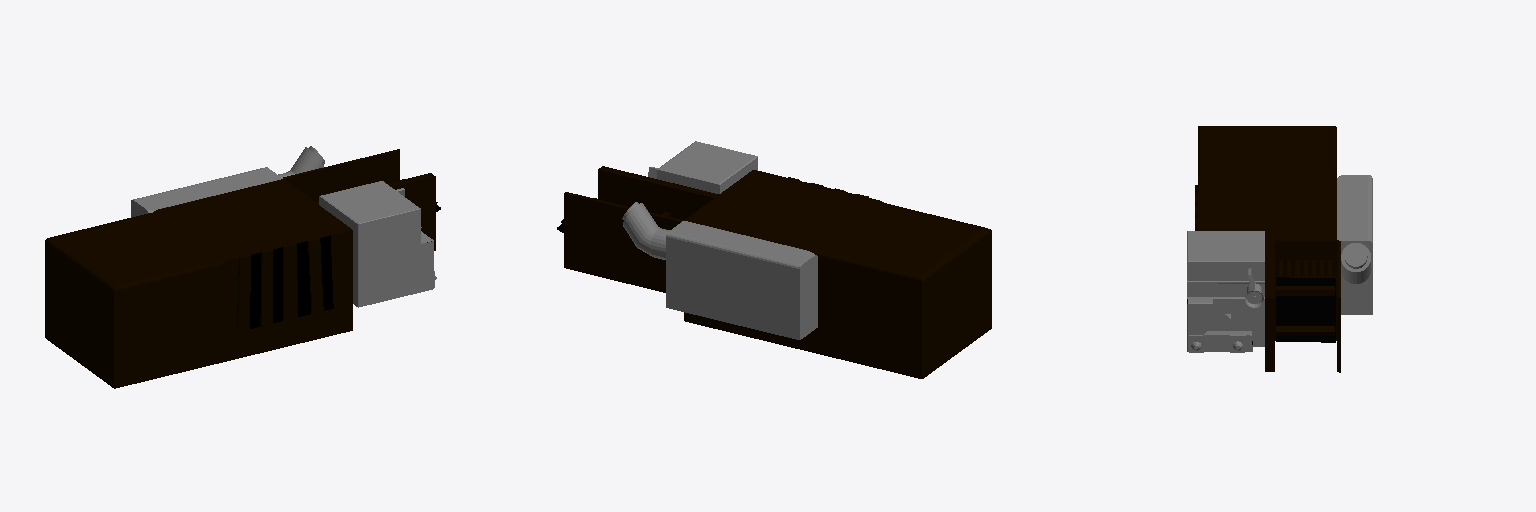
File: drobene.obj
The picture shows the model from 3 angles: view 1: azimuth 30°, elevation 25°; view 2: azimuth 150°, elevation 25°; view 3: azimuth 270°, elevation 25°; orthographic projection.
Visible parts, largest first — view 1: Cube_Cube.008, Cube_Cube.001, Cube_Cube.003, Cube_Cube.002, Circle.014_Circle.035; view 2: Cube_Cube.008, Cube_Cube.002, Cube_Cube.001, Circle.014_Circle.035; view 3: Cube_Cube.008, Cube_Cube.001, Cube_Cube.002, Cylinder_Cylinder.008, Circle.014_Circle.035, Cube.001_Cube.007, Cube.002_Cube.006.
Boxes of the visible parts, box(x1,y1,x2,y2) form: Cube_Cube.008: box(45, 149, 435, 388); Cube_Cube.001: box(319, 181, 434, 307); Cube_Cube.003: box(250, 235, 333, 328); Cube_Cube.002: box(131, 167, 282, 217); Circle.014_Circle.035: box(278, 146, 324, 177); Cube_Cube.008: box(564, 166, 991, 378); Cube_Cube.002: box(666, 221, 817, 339); Cube_Cube.001: box(657, 141, 757, 193); Circle.014_Circle.035: box(622, 202, 669, 259); Cube_Cube.008: box(1187, 126, 1340, 372); Cube_Cube.001: box(1187, 231, 1264, 352); Cube_Cube.002: box(1337, 175, 1372, 314); Cylinder_Cylinder.008: box(1276, 277, 1335, 342); Circle.014_Circle.035: box(1341, 243, 1370, 283); Cube.001_Cube.007: box(1276, 286, 1334, 295); Cube.002_Cube.006: box(1276, 326, 1334, 335).
Bounding box in the file's own units: 41.67 × 12.66 × 18.3.